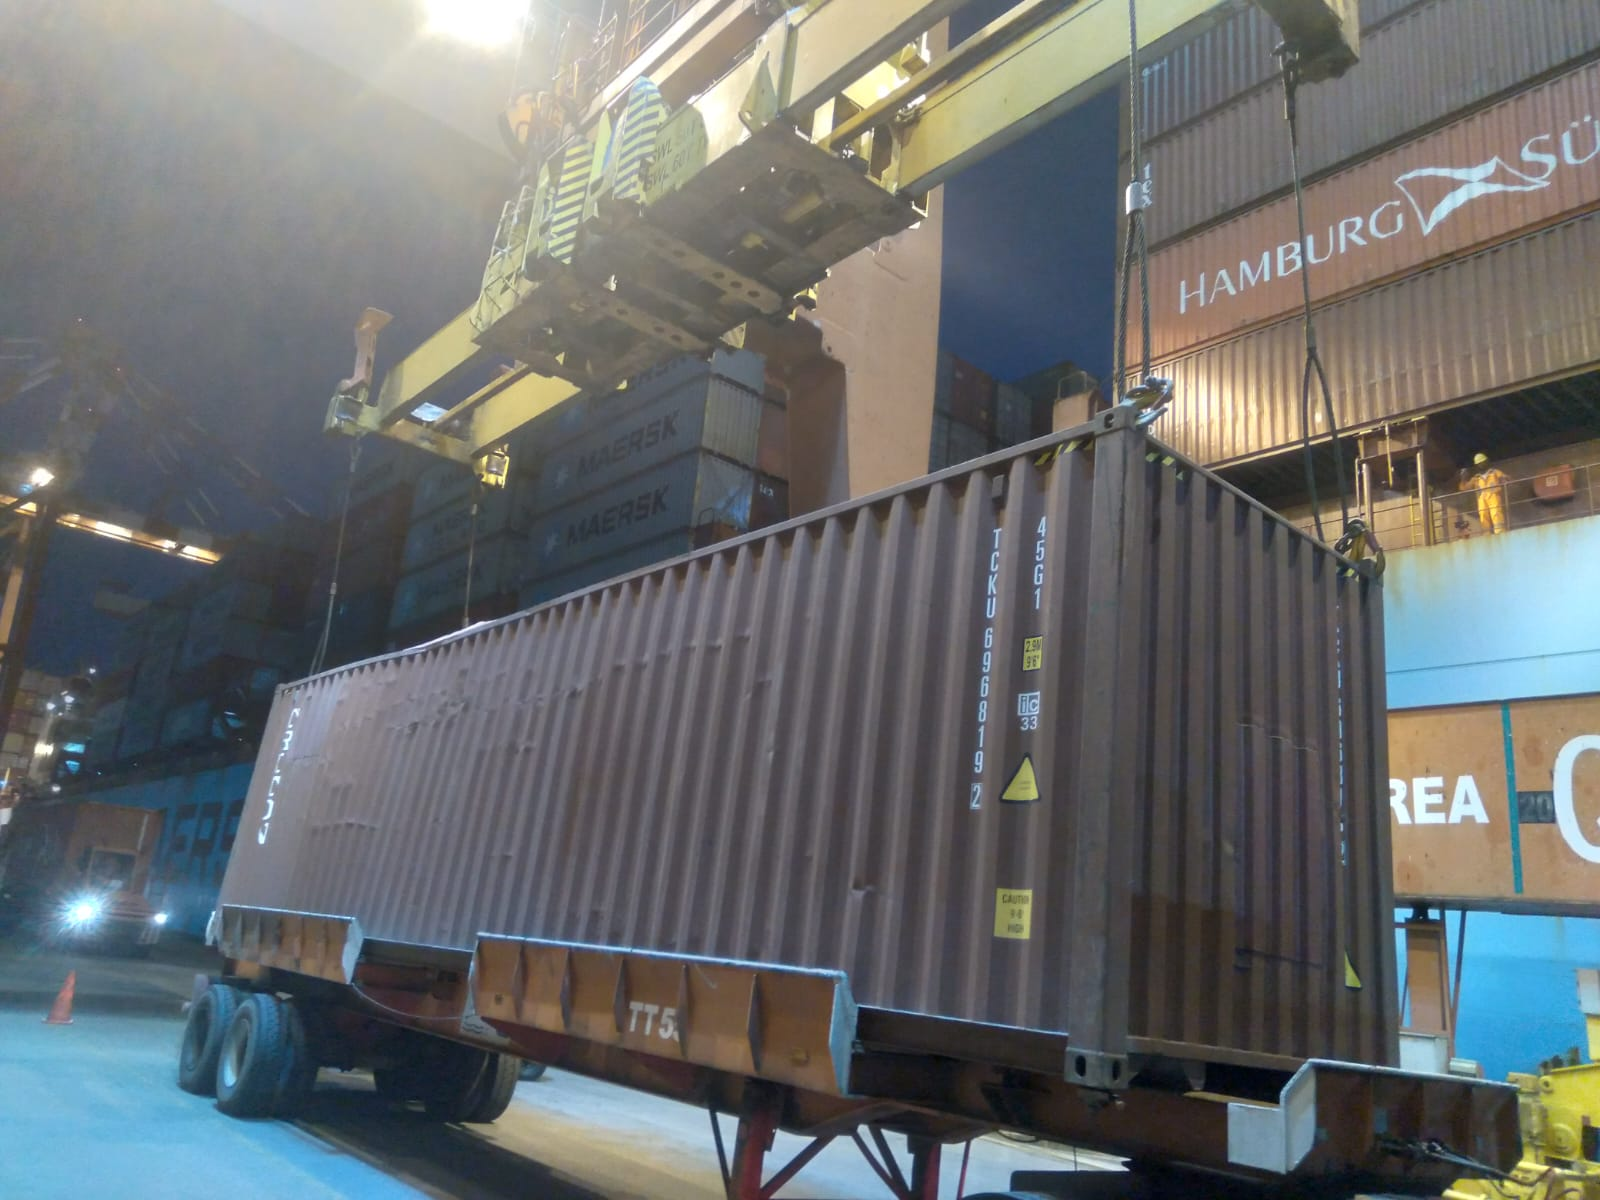dented: (358, 609, 767, 782), (277, 807, 391, 846)
